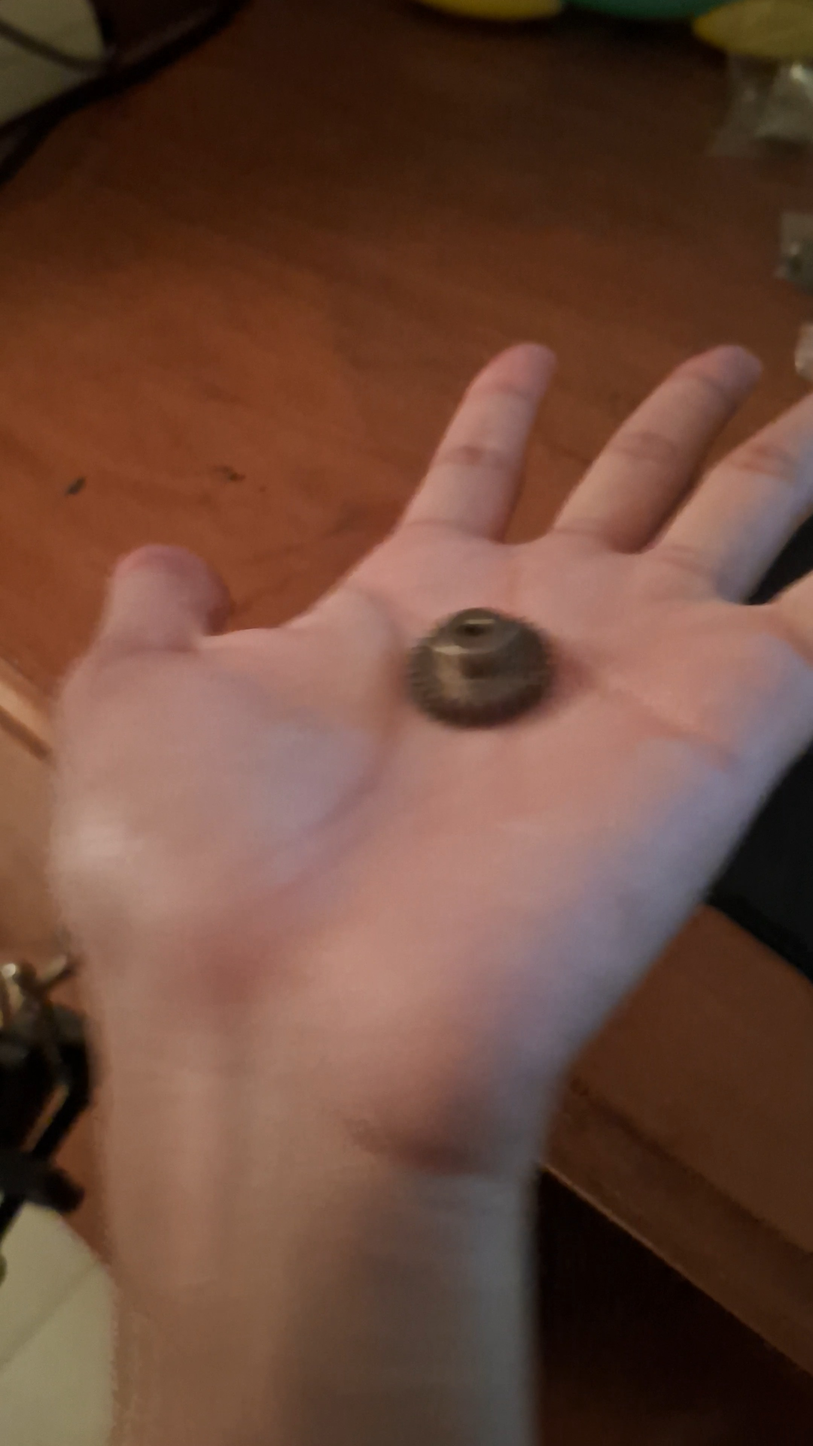spur gear: (407, 608, 553, 729)
